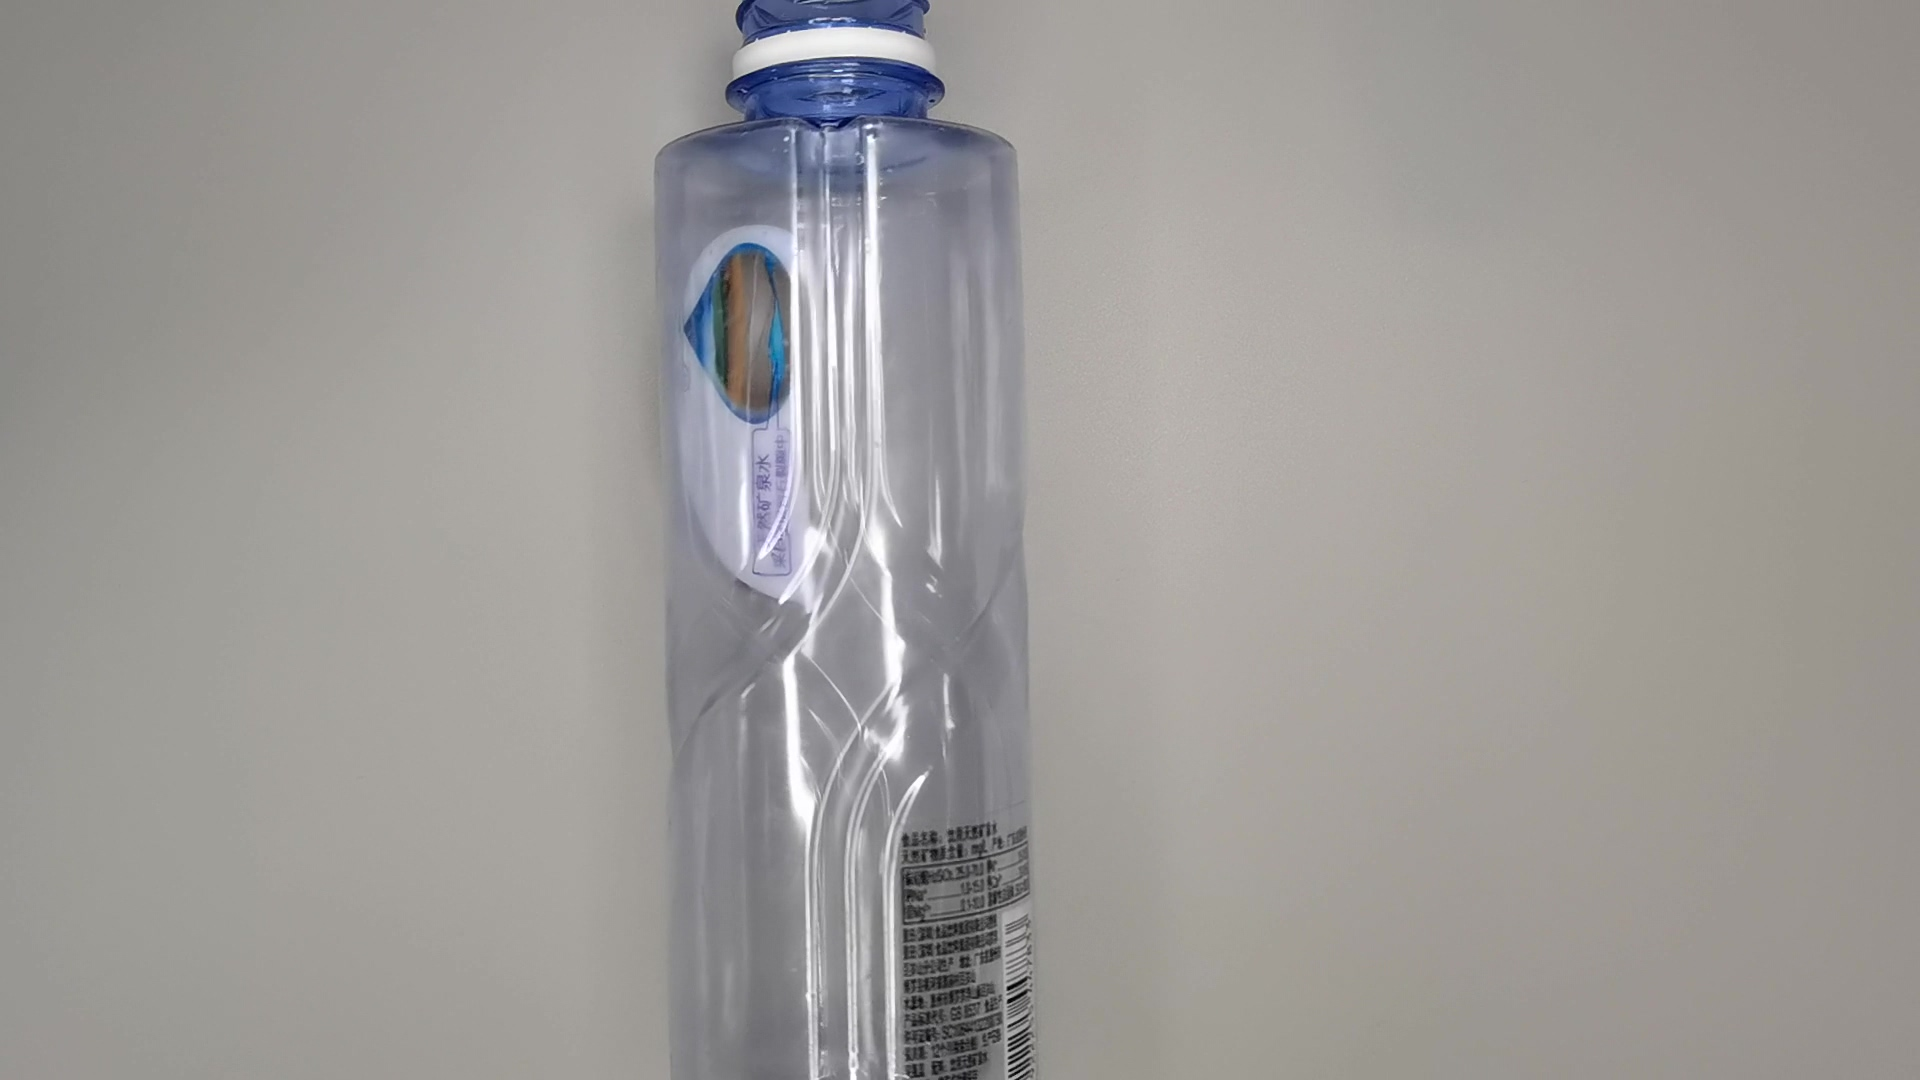bottle: (636, 1, 1054, 1080)
